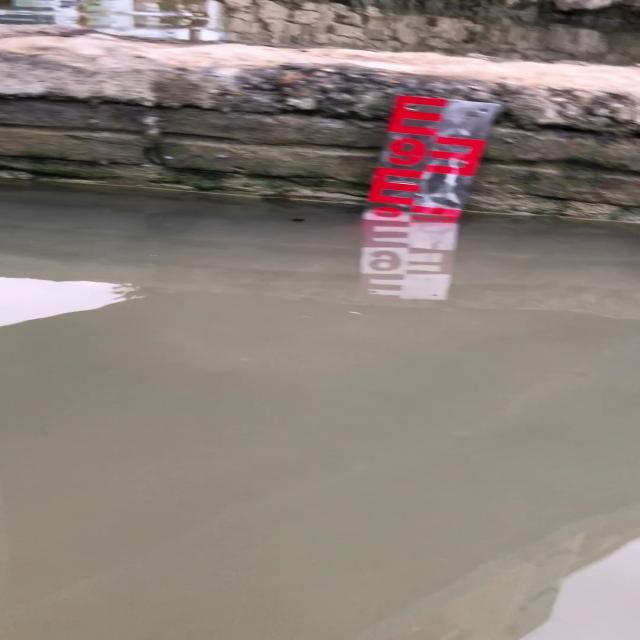ruler: (362, 83, 503, 227)
value: (377, 131, 429, 173)
